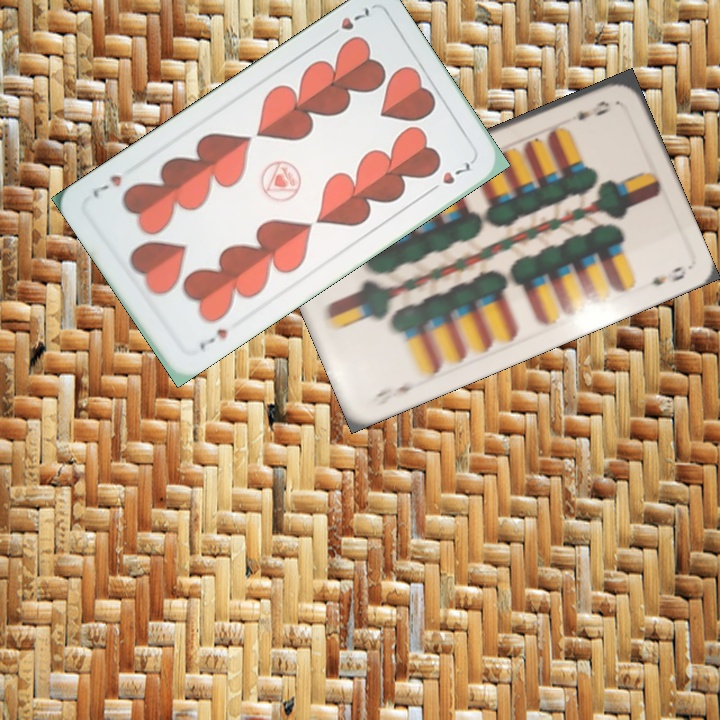E9: (367, 381, 423, 409), (574, 96, 614, 124)
H7: (322, 3, 372, 42), (194, 324, 230, 353)
